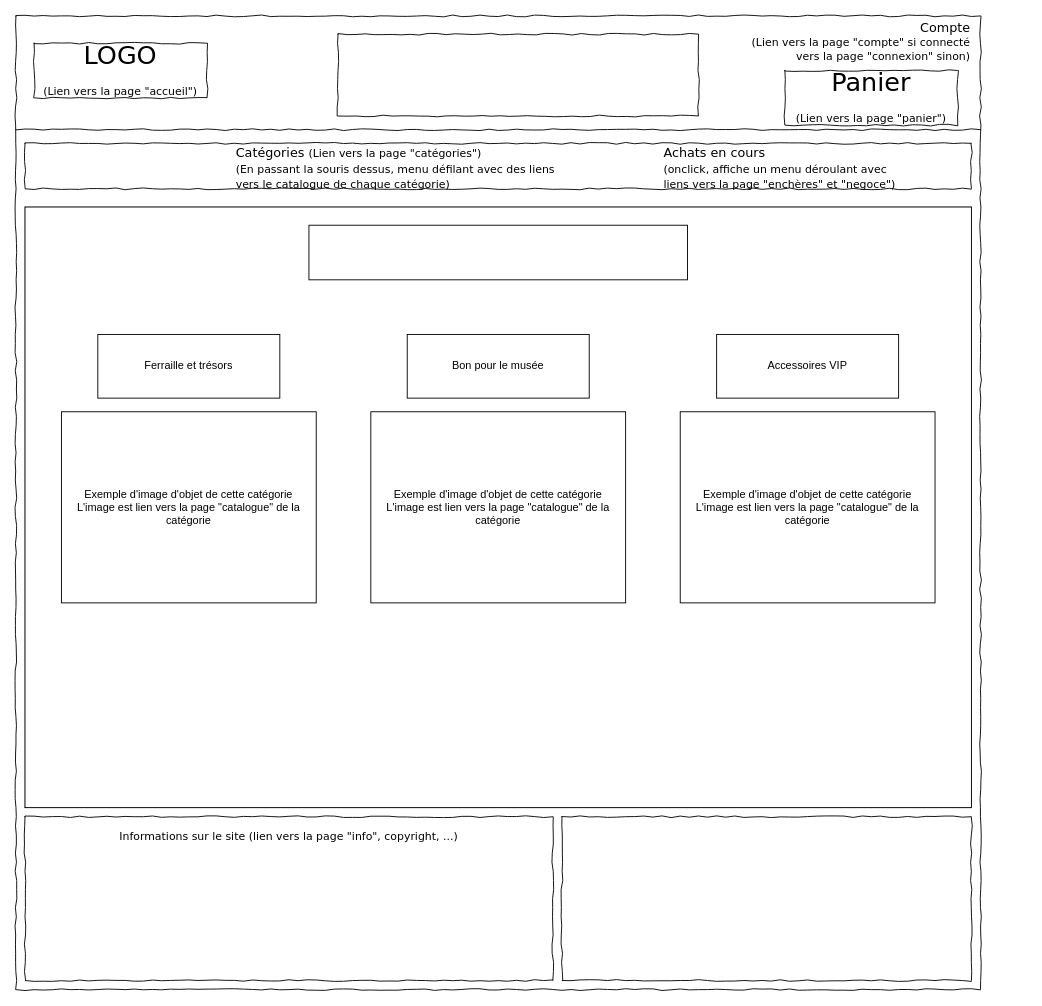
The diagram is 1042 pixels wide and 1006 high, and some of its shapes have lost their labels. The centre of each missing label's shape, as x and y in pixels:
Bienvenue ...: (x=517, y=74)
Catégories: (x=498, y=252)
Nous contacter: (x=766, y=898)
